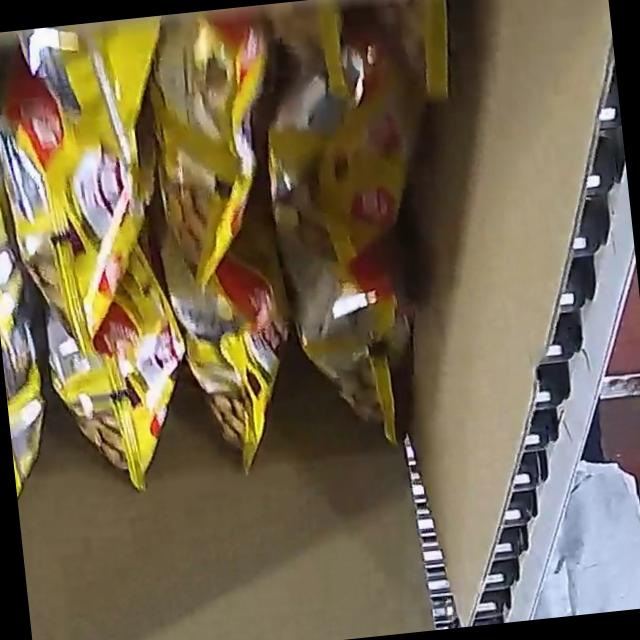salted: (0, 0, 487, 510)
